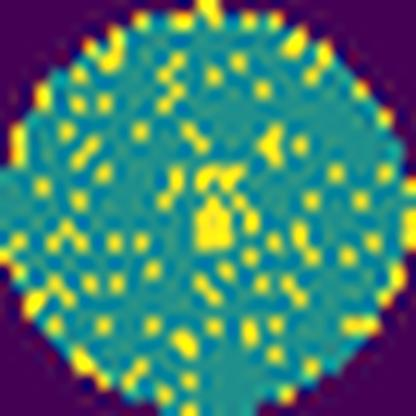Center: (189, 161, 255, 259)
